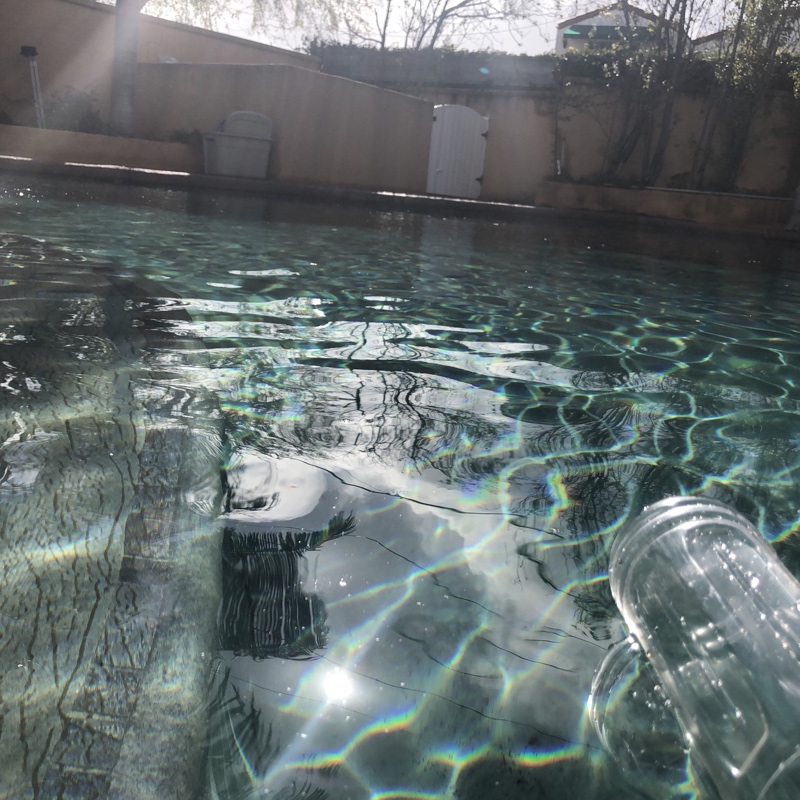Plastic Bottle: (601, 493, 800, 800)
